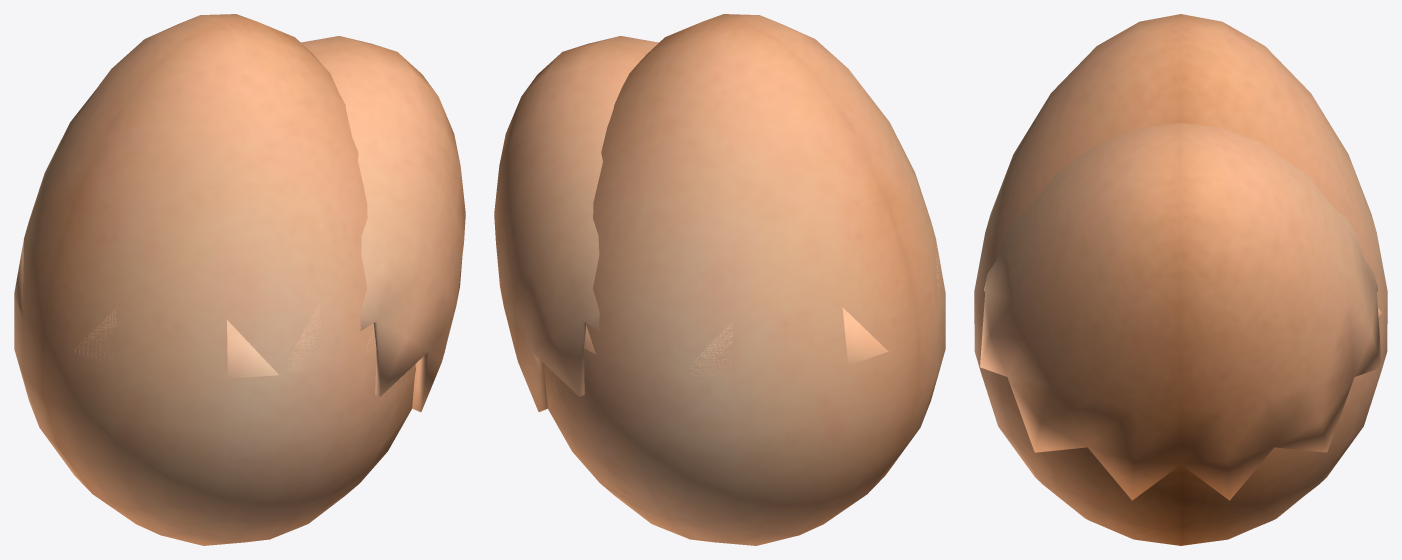
Rendered from egg.glb.
The picture shows the model from 3 angles, left to right: view 1: azimuth 30°, elevation 25°; view 2: azimuth 150°, elevation 25°; view 3: azimuth 270°, elevation 25°; orthographic projection.
Parts seen in each view (by area): view 1: MeshGood, MeshBad; view 2: MeshGood, MeshBad; view 3: MeshBad, MeshGood.
Part boxes in pixels (box(x1,y1,x2,y2)): MeshGood: box(14, 14, 415, 545); MeshBad: box(14, 36, 465, 411); MeshGood: box(544, 14, 945, 545); MeshBad: box(494, 36, 944, 411); MeshBad: box(980, 123, 1381, 500); MeshGood: box(974, 14, 1387, 545).
Bounding box in the file's own units: 0.2038 × 0.2461 × 0.1816.
2 materials, 2 textured.
